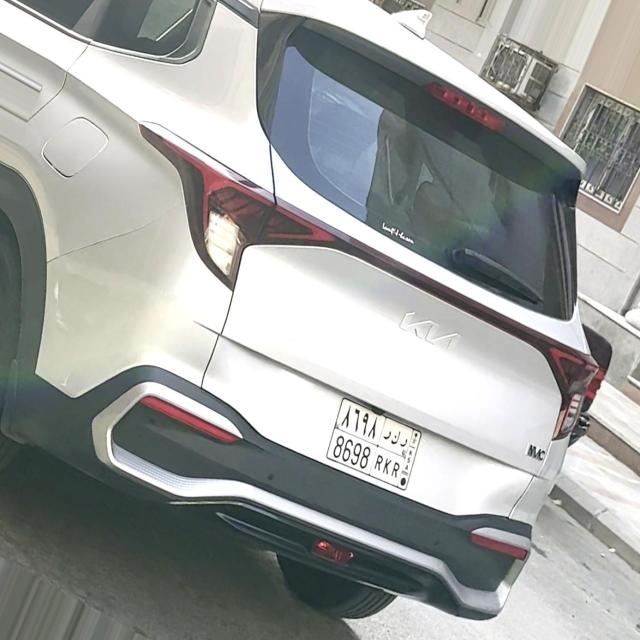Car-plate: (316, 385, 431, 500)
